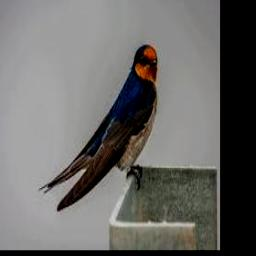Swallow: (38, 45, 157, 211)
